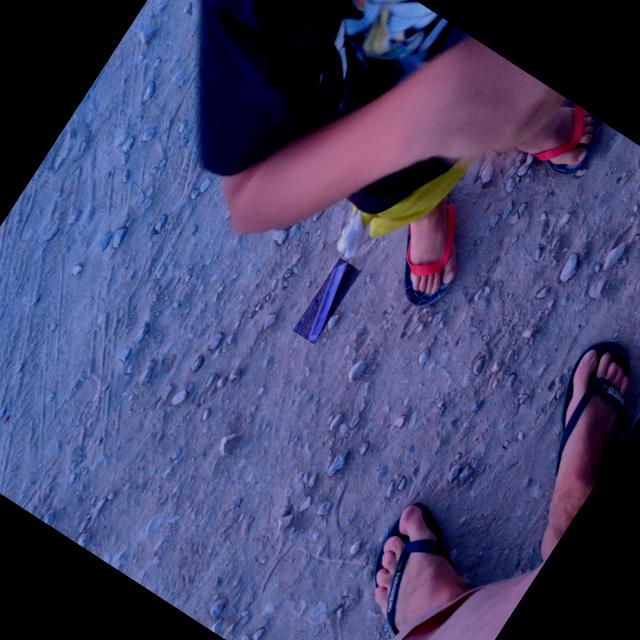Other plastic bottle: (307, 262, 347, 342)
